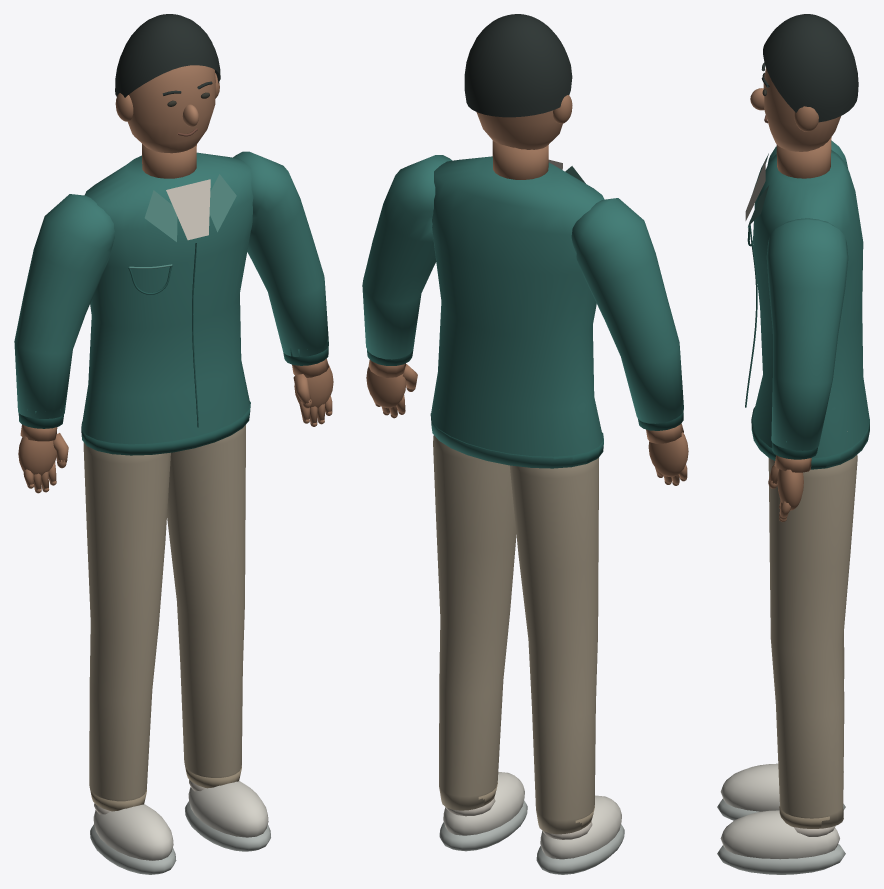
The model's file is beginner-guide.glb.
The picture shows the model from 3 angles, left to right: view 1: azimuth 30°, elevation 25°; view 2: azimuth 150°, elevation 25°; view 3: azimuth 270°, elevation 25°; orthographic projection. The views are drawn at different scales.
Visible parts, largest first — view 1: LivingTownGuide_Runtime; view 2: LivingTownGuide_Runtime; view 3: LivingTownGuide_Runtime.
Boxes of the visible parts, x1,y1,x2,y2 form: LivingTownGuide_Runtime: (14,14,333,874); LivingTownGuide_Runtime: (362,14,688,874); LivingTownGuide_Runtime: (717,14,869,874).
Bounding box in the file's own units: 0.712 × 1.79 × 0.299.
